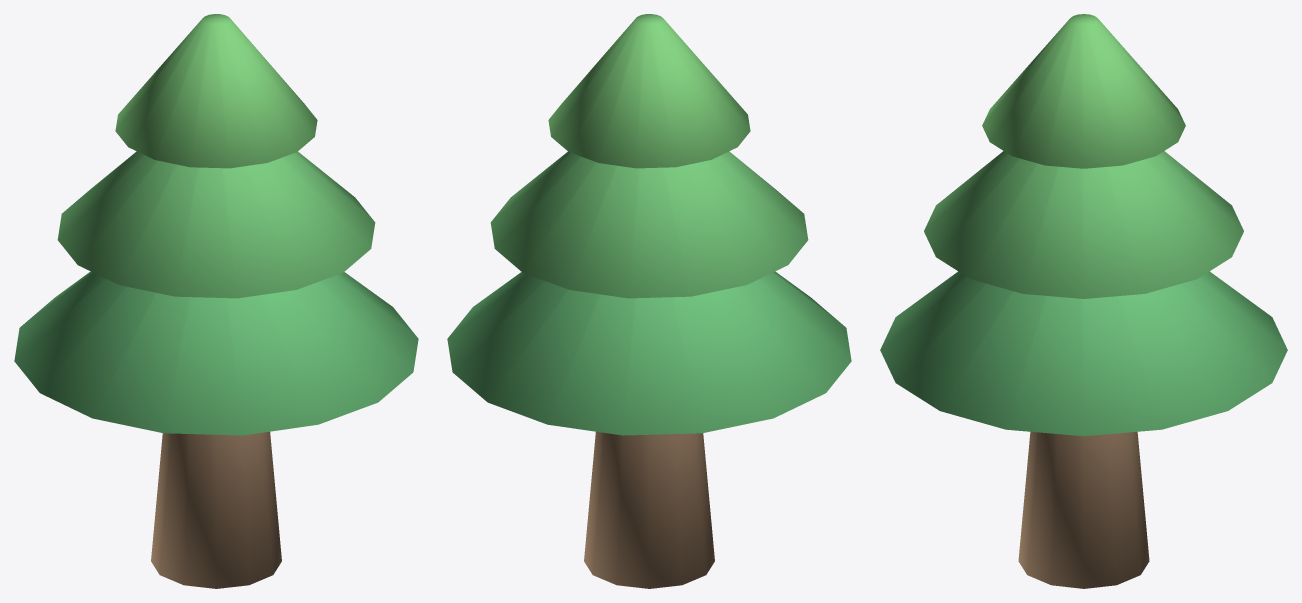
The model's file is 24d6f703-5205-4ad3-b25d-5600dde40b94.glb.
3 views of the same model, side by side, from view 1: azimuth 30°, elevation 25°; view 2: azimuth 150°, elevation 25°; view 3: azimuth 270°, elevation 25° (orthographic).
Visible parts, largest first — view 1: GeneratedObject3D; view 2: GeneratedObject3D; view 3: GeneratedObject3D.
Part boxes in pixels (x1,y1,x2,y2): GeneratedObject3D: (14,14,418,588); GeneratedObject3D: (447,14,851,588); GeneratedObject3D: (880,14,1287,588).
Bounding box in the file's own units: 2.8 × 4.1 × 2.8.
